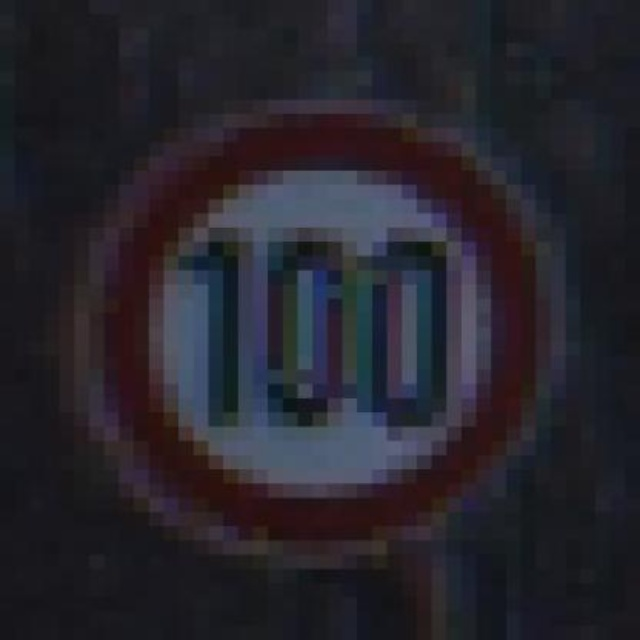Tốc độ tối đa cho phép 100km/h: (115, 112, 541, 545)
